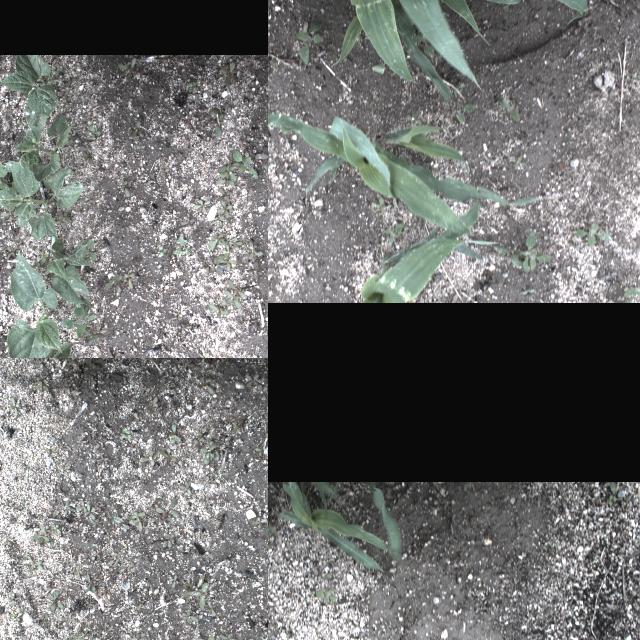crop: (268, 110, 540, 234), (330, 0, 587, 102), (360, 204, 486, 302), (277, 482, 397, 572), (0, 153, 82, 242), (6, 249, 61, 358), (14, 107, 74, 181), (38, 233, 96, 309), (357, 482, 401, 562), (0, 57, 57, 114), (0, 342, 73, 358), (60, 309, 98, 339), (312, 482, 338, 520), (326, 482, 338, 506)
weed: (508, 230, 552, 274), (294, 19, 324, 65), (570, 223, 612, 249), (230, 147, 260, 179), (220, 282, 248, 310), (172, 230, 195, 260), (197, 440, 225, 464), (31, 524, 61, 546), (202, 229, 228, 253), (154, 497, 178, 523), (243, 238, 265, 266), (466, 242, 508, 256), (215, 162, 239, 186), (216, 60, 234, 88), (498, 100, 520, 122), (116, 58, 140, 78), (180, 576, 204, 596), (209, 105, 223, 137), (125, 511, 146, 532), (200, 258, 222, 278), (46, 590, 66, 612), (386, 222, 404, 246), (214, 196, 233, 217), (368, 198, 396, 212), (187, 196, 210, 212), (170, 313, 190, 331), (456, 103, 474, 123), (206, 300, 228, 316), (314, 588, 336, 604), (23, 555, 42, 573), (196, 582, 208, 610), (128, 120, 146, 138), (114, 178, 132, 196), (86, 328, 104, 346), (102, 275, 120, 293), (621, 285, 640, 302), (138, 450, 158, 466), (82, 358, 98, 378), (67, 628, 93, 640), (194, 376, 213, 392), (112, 514, 128, 532), (168, 424, 182, 444), (214, 189, 236, 201), (78, 148, 94, 164), (145, 169, 159, 187), (176, 217, 194, 231), (229, 234, 243, 252), (244, 374, 262, 388), (158, 448, 176, 462), (82, 126, 102, 138), (83, 502, 95, 522), (218, 258, 235, 272), (257, 157, 268, 178), (184, 76, 198, 92), (246, 262, 260, 278), (74, 500, 90, 514), (86, 574, 98, 592), (61, 613, 78, 625), (146, 396, 156, 416), (9, 396, 19, 416), (512, 156, 526, 170), (234, 316, 246, 332), (72, 564, 84, 580), (251, 516, 268, 527), (230, 418, 243, 432), (180, 612, 198, 622), (154, 244, 168, 256), (122, 274, 134, 288), (178, 480, 190, 494), (129, 412, 141, 426), (56, 464, 70, 476), (61, 358, 76, 369), (207, 600, 216, 618), (40, 613, 50, 629), (608, 482, 616, 501), (222, 246, 234, 258), (35, 380, 47, 392), (625, 70, 639, 80), (163, 534, 173, 548), (208, 514, 222, 524), (61, 501, 71, 515), (195, 426, 205, 440), (95, 454, 108, 464), (21, 463, 34, 473), (166, 630, 178, 640), (204, 475, 214, 487), (120, 428, 132, 438), (8, 594, 18, 606), (620, 495, 632, 505), (268, 519, 274, 539), (130, 633, 146, 640), (170, 574, 178, 588), (118, 564, 132, 572), (140, 358, 156, 365), (44, 448, 58, 456), (194, 636, 219, 640), (148, 497, 158, 507), (193, 438, 203, 448), (214, 216, 222, 228), (219, 634, 235, 640), (89, 519, 101, 527), (7, 614, 19, 622), (36, 375, 48, 383), (168, 382, 176, 393), (84, 377, 95, 385), (254, 446, 262, 456), (136, 600, 144, 610), (198, 496, 208, 504), (93, 590, 101, 600), (170, 460, 178, 470), (84, 601, 94, 609), (58, 586, 68, 594), (102, 586, 111, 594), (210, 494, 217, 504), (77, 439, 87, 446), (218, 422, 225, 432), (88, 358, 101, 363), (119, 630, 127, 638), (210, 420, 218, 428), (464, 482, 471, 491), (195, 354, 210, 358), (8, 516, 15, 524), (182, 601, 195, 605), (212, 590, 218, 598), (227, 416, 235, 422), (93, 550, 99, 558), (96, 502, 102, 510), (129, 442, 137, 448), (608, 494, 612, 506), (104, 532, 108, 540), (263, 433, 268, 437), (92, 544, 98, 546)
